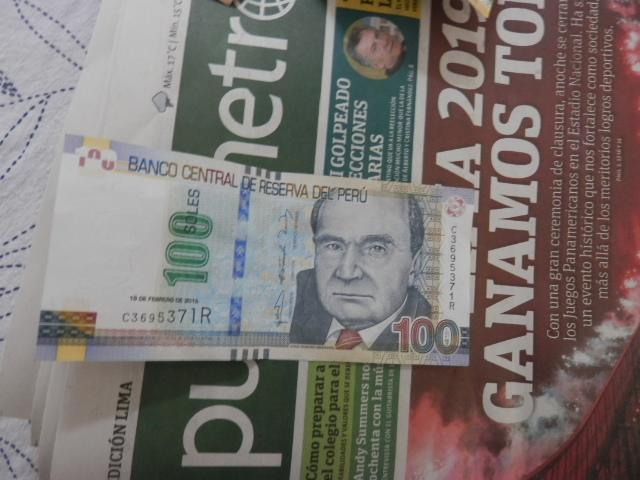B100: (42, 129, 477, 377)
